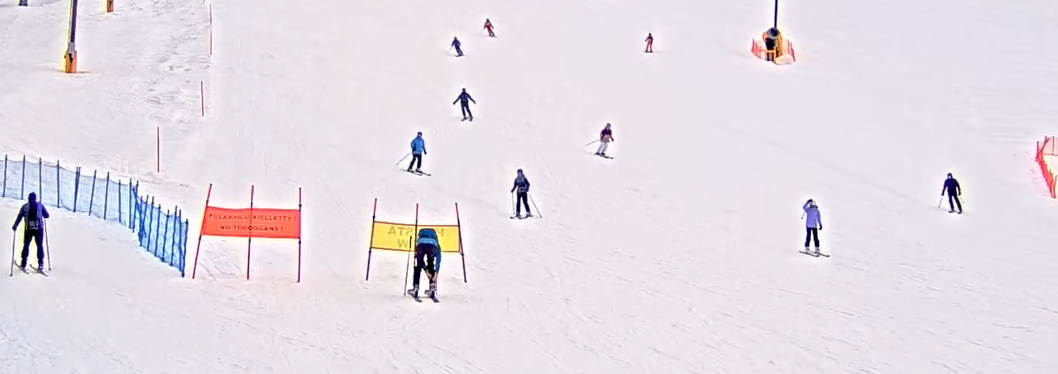skier: (8, 191, 52, 276), (798, 197, 831, 259), (509, 167, 544, 221), (395, 131, 432, 176), (936, 171, 966, 215), (584, 122, 614, 159), (451, 87, 476, 122), (445, 36, 464, 57)
